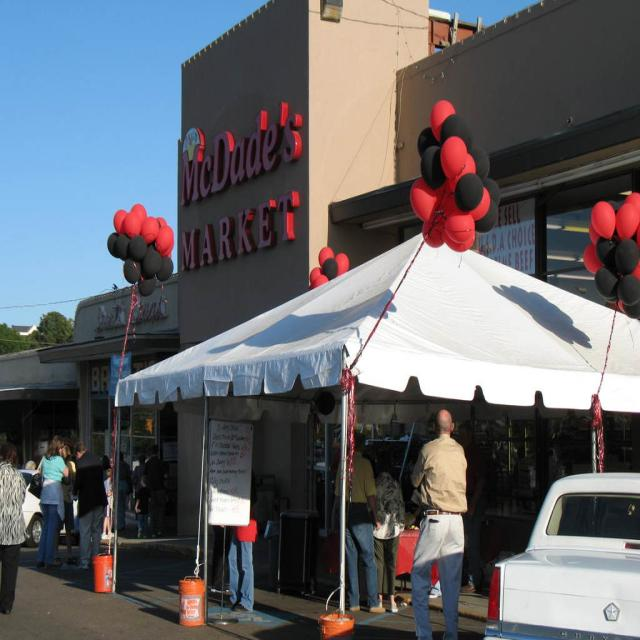car: (13, 471, 108, 547)
